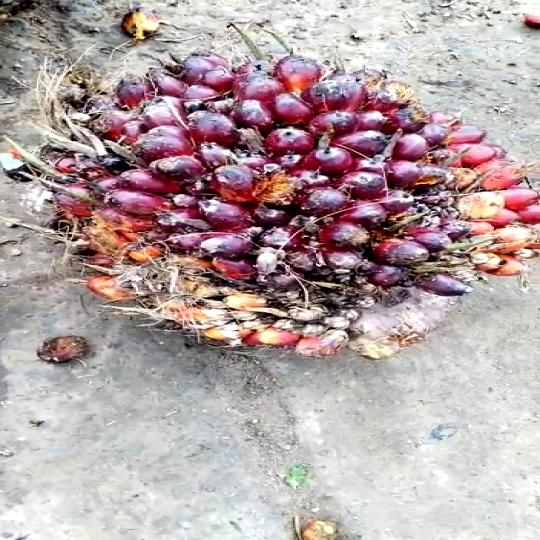masak: (28, 51, 540, 362)
